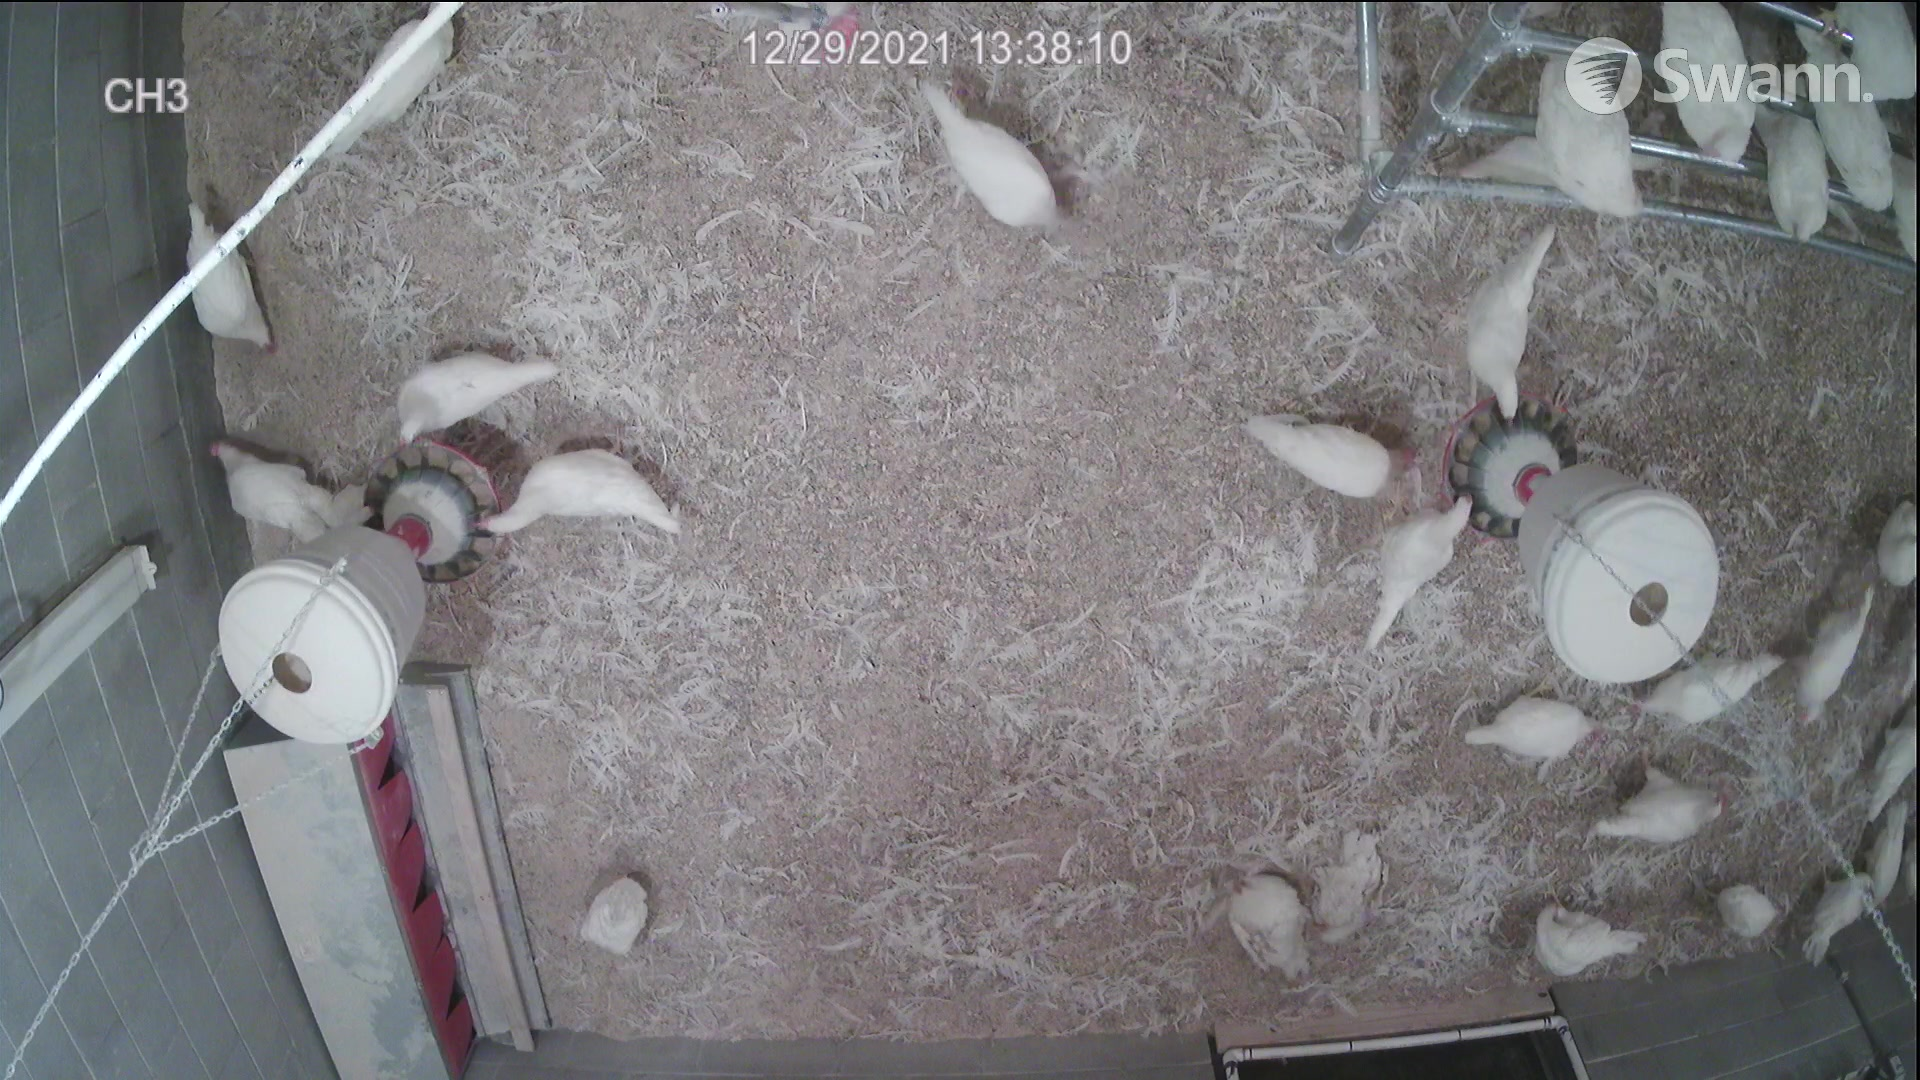Dust Bathing: (1222, 858, 1352, 986), (1303, 823, 1396, 945)
Feeding: (459, 451, 684, 541), (1356, 488, 1484, 632), (1469, 219, 1557, 418), (386, 345, 555, 447)
Foraging: (915, 79, 1065, 229), (182, 182, 276, 356), (1461, 688, 1596, 770)
Perching: (1528, 46, 1643, 225), (1640, 0, 1756, 167), (1815, 74, 1902, 200), (1821, 3, 1920, 113), (1756, 108, 1836, 243)
Preening: (1535, 905, 1663, 981)
